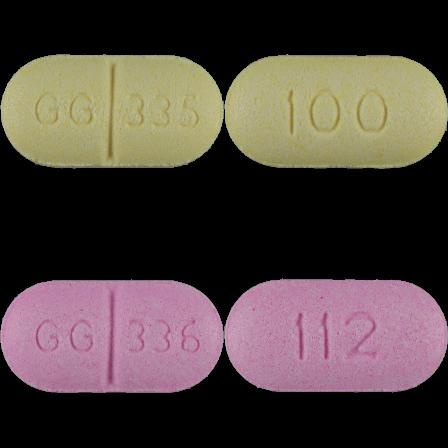0781-5184: (0, 0, 224, 224)
